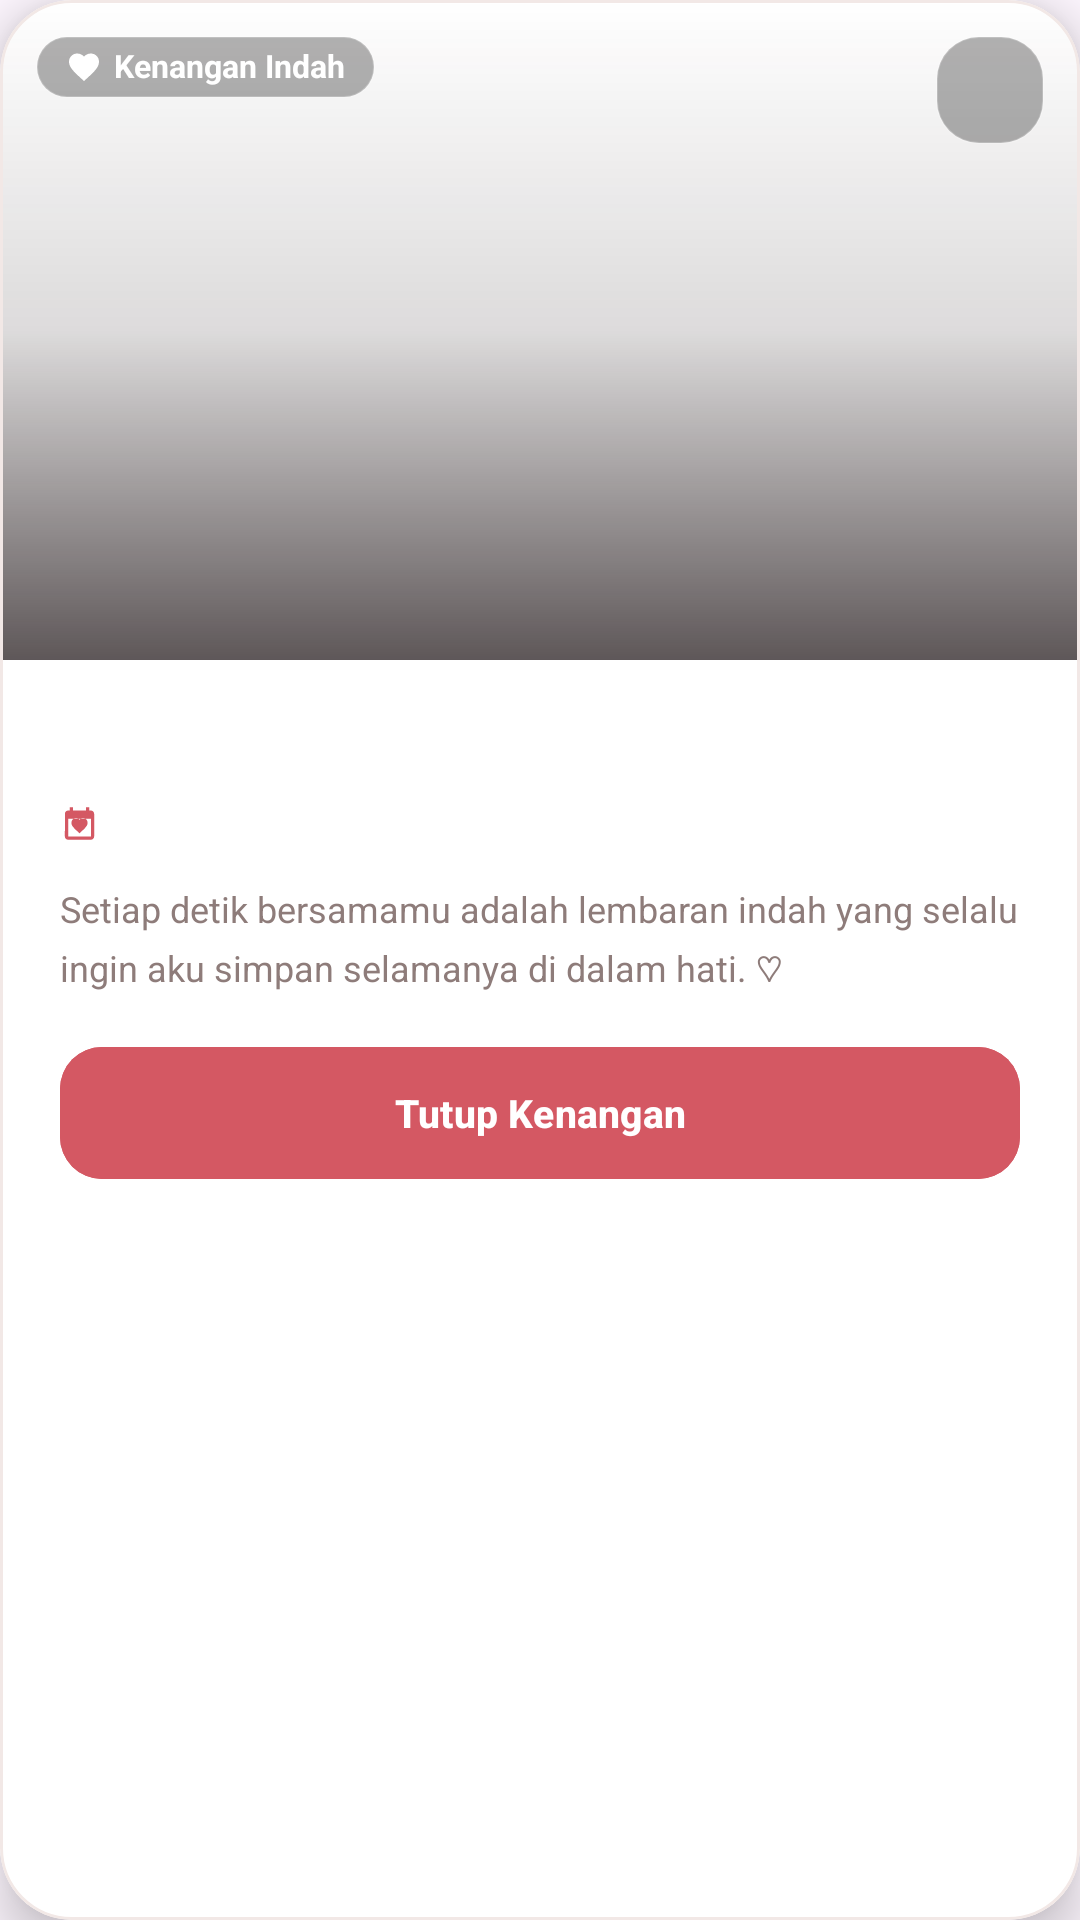

Named icons in this screenshot (1080 × 1920) and their centers, (x=x, y=y):
calendar heart: (x=79, y=823)
heart: (x=84, y=67)
